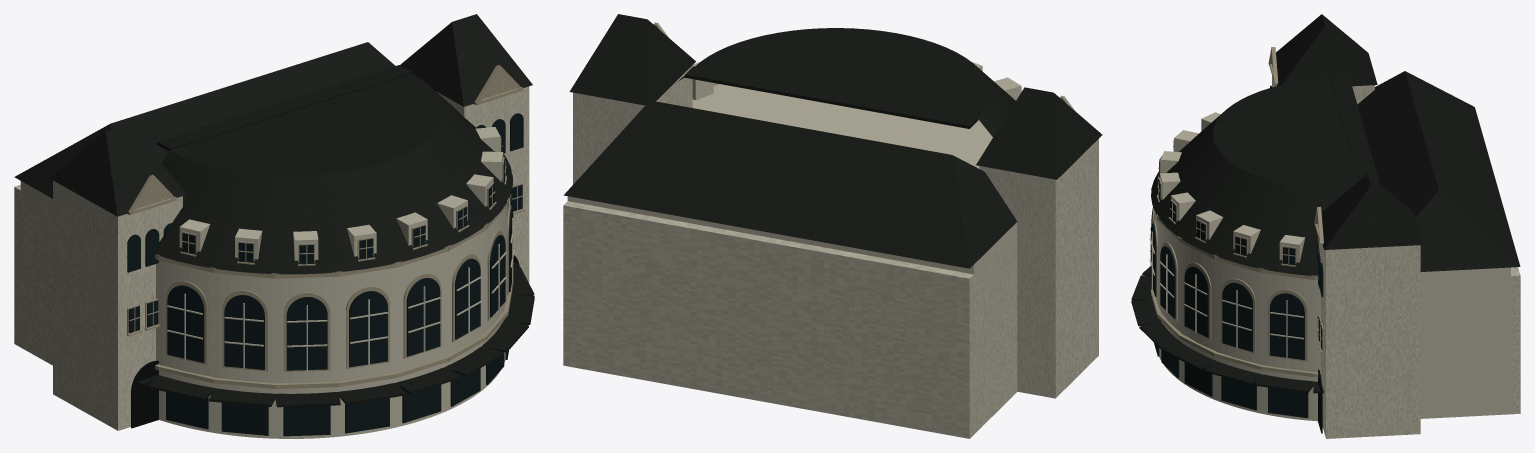
3 views of the same model, side by side, from view 1: azimuth 30°, elevation 25°; view 2: azimuth 150°, elevation 25°; view 3: azimuth 270°, elevation 25° (orthographic). The views are drawn at different scales.
Visible parts, largest first — view 1: hofplein-loos-3, hofplein-loos-0, hofplein-loos-2, hofplein-loos-1, hofplein-loos-4; view 2: hofplein-loos-0, hofplein-loos-3; view 3: hofplein-loos-3, hofplein-loos-0, hofplein-loos-2, hofplein-loos-1.
Part boxes in pixels (x1=…): hofplein-loos-3: x1=14, y1=14, x2=534, y2=407; hofplein-loos-0: x1=14, y1=86, x2=529, y2=438; hofplein-loos-2: x1=127, y1=113, x2=523, y2=436; hofplein-loos-1: x1=126, y1=65, x2=524, y2=388; hofplein-loos-4: x1=131, y1=255, x2=519, y2=428; hofplein-loos-0: x1=563, y1=62, x2=1098, y2=438; hofplein-loos-3: x1=563, y1=14, x2=1102, y2=268; hofplein-loos-3: x1=1131, y1=14, x2=1520, y2=393; hofplein-loos-0: x1=1149, y1=76, x2=1520, y2=438; hofplein-loos-2: x1=1150, y1=85, x2=1323, y2=418; hofplein-loos-1: x1=1151, y1=47, x2=1323, y2=377.
Bounding box in the file's own units: 48.91 × 28 × 40.82.
Materials: 5 (5 with a texture image).
